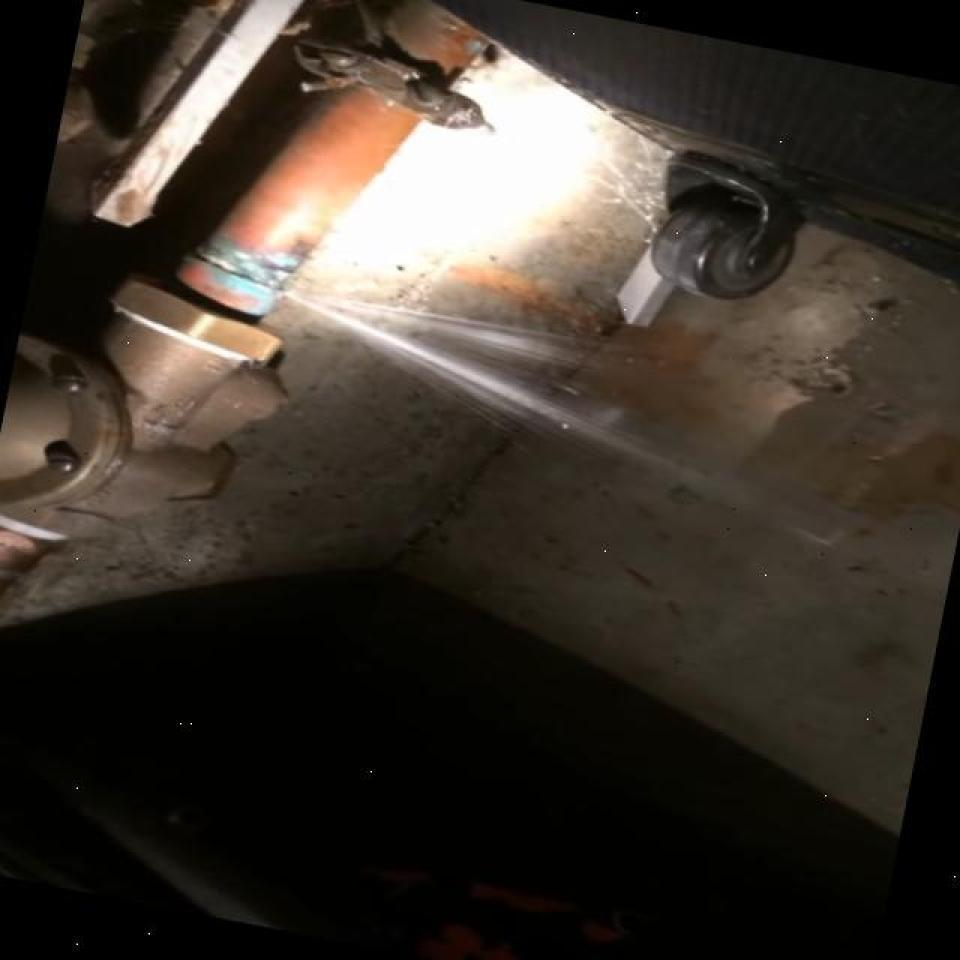pipe burst: (265, 282, 773, 512)
